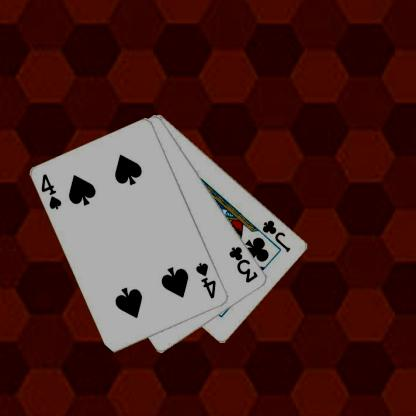3C: (227, 244, 259, 284)
4S: (194, 260, 218, 300), (39, 171, 63, 211)
JC: (260, 218, 292, 254)
